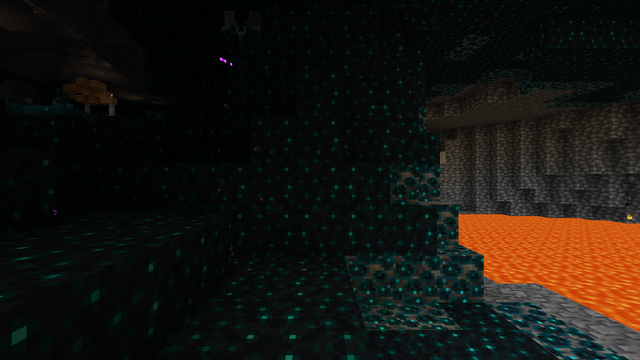endermens: (203, 44, 234, 138)
